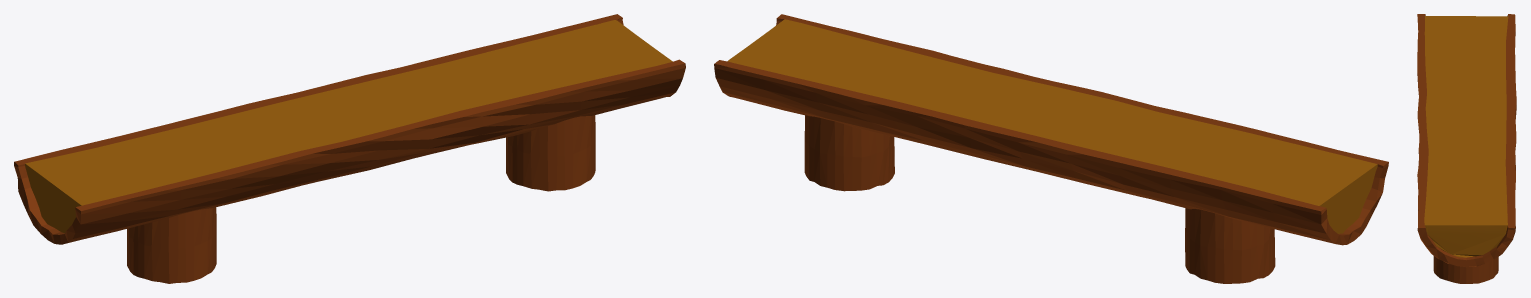
The model's file is benchWood.fbx.
The picture shows the model from 3 angles, left to right: view 1: azimuth 30°, elevation 25°; view 2: azimuth 150°, elevation 25°; view 3: azimuth 270°, elevation 25°; orthographic projection. The views are drawn at different scales.
Parts seen in each view (by area): view 1: Cylinder.001, Cylinder.002, Cylinder.003; view 2: Cylinder.001, Cylinder.002, Cylinder.003; view 3: Cylinder.001, Cylinder.003.
Boxes of the visible parts, x1,y1,x2,y2 form: Cylinder.001: (14, 14, 685, 244); Cylinder.002: (127, 207, 216, 283); Cylinder.003: (506, 115, 595, 191); Cylinder.001: (714, 14, 1388, 245); Cylinder.002: (1185, 208, 1275, 283); Cylinder.003: (804, 104, 894, 191); Cylinder.001: (1417, 14, 1516, 266); Cylinder.003: (1433, 256, 1498, 283).
Bounding box in the file's own units: 1022 × 177 × 201.
